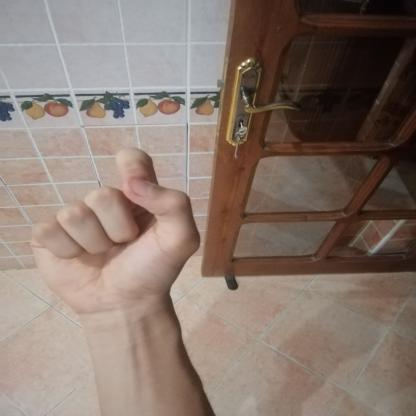FAA: (14, 135, 216, 324)
